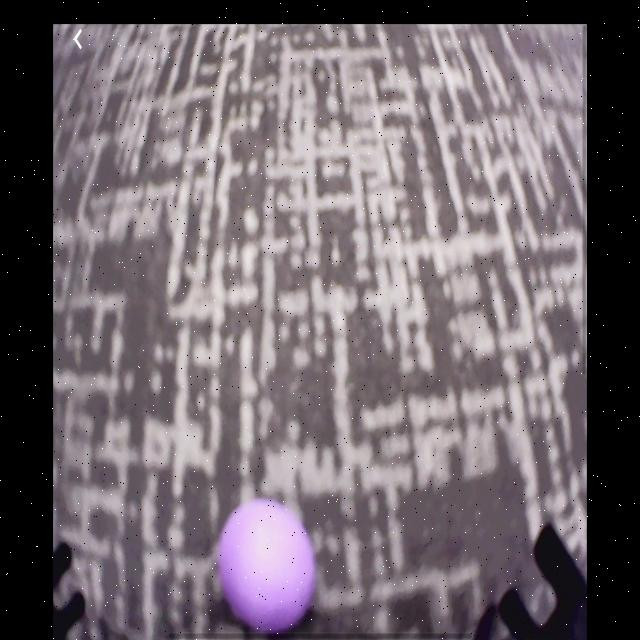ball: (219, 501, 316, 633)
